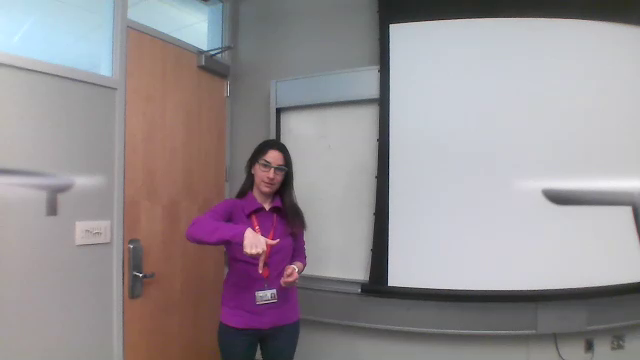down: (242, 225, 269, 278)
